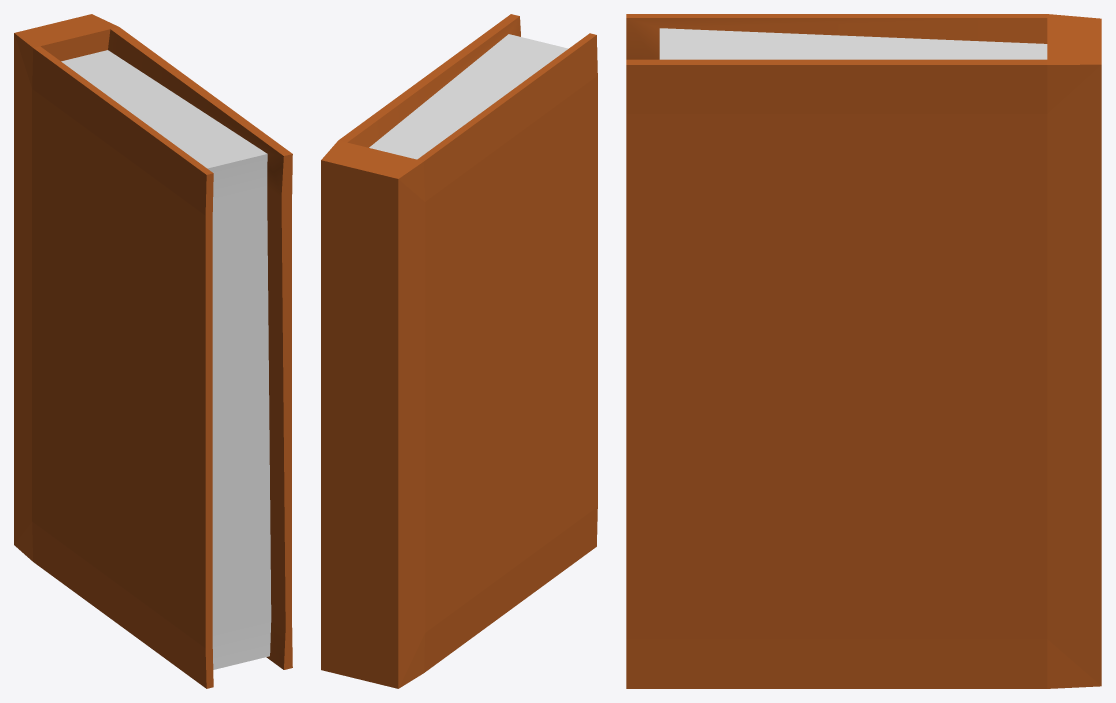
Rendered from Midium_Book_Orange.fbx.
3 views of the same model, side by side, from view 1: azimuth 30°, elevation 25°; view 2: azimuth 150°, elevation 25°; view 3: azimuth 270°, elevation 25° (orthographic). The views are drawn at different scales.
Visible parts, largest first — view 1: Book2; view 2: Book2; view 3: Book2.
Part boxes in pixels (x1,y1,x2,y2): Book2: (14, 14, 292, 688); Book2: (321, 14, 597, 688); Book2: (626, 14, 1101, 688).
Size of the model in its own units: 0.0687 by 0.3868 by 0.267.
